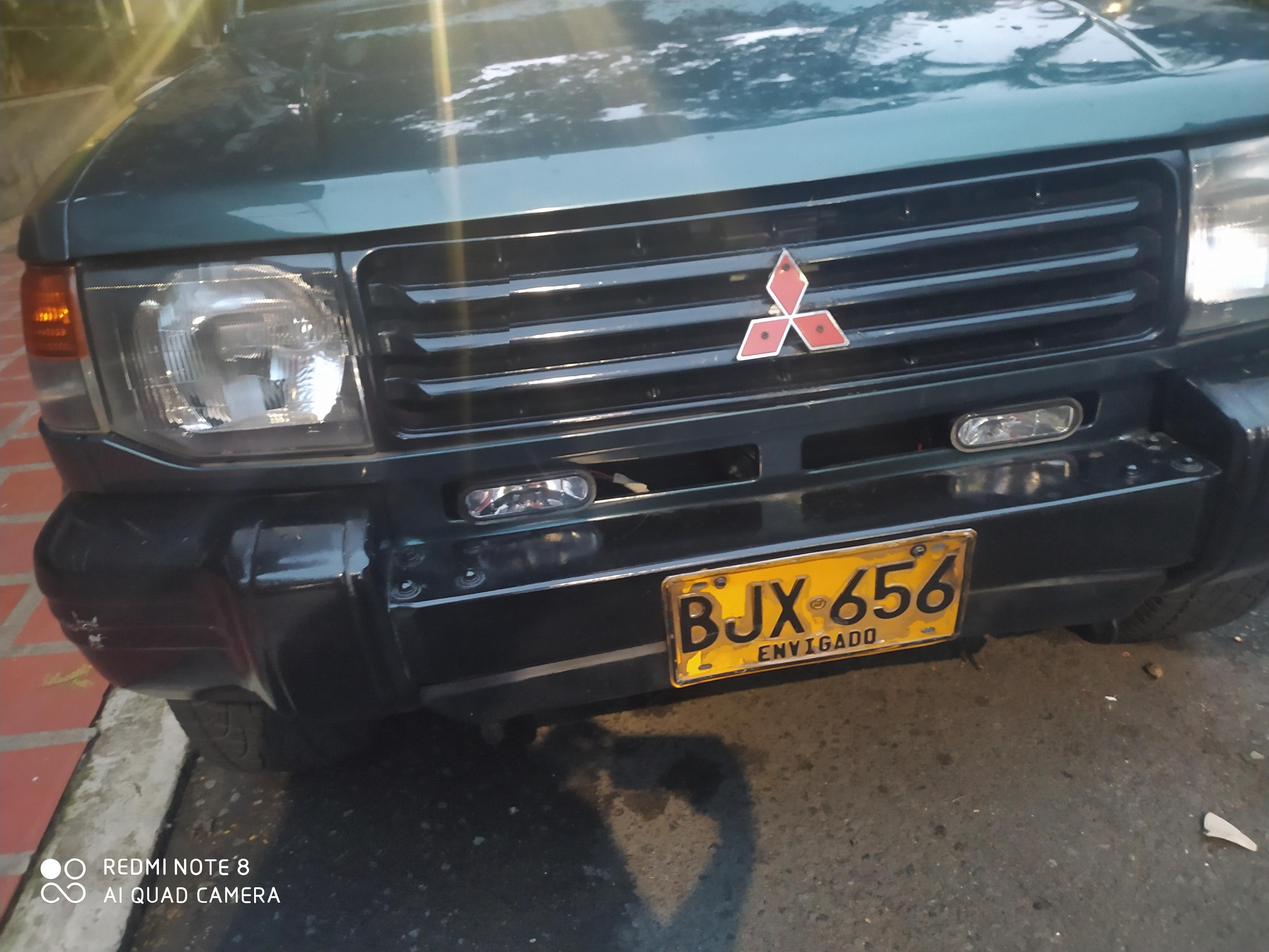placa: (638, 527, 995, 694)
